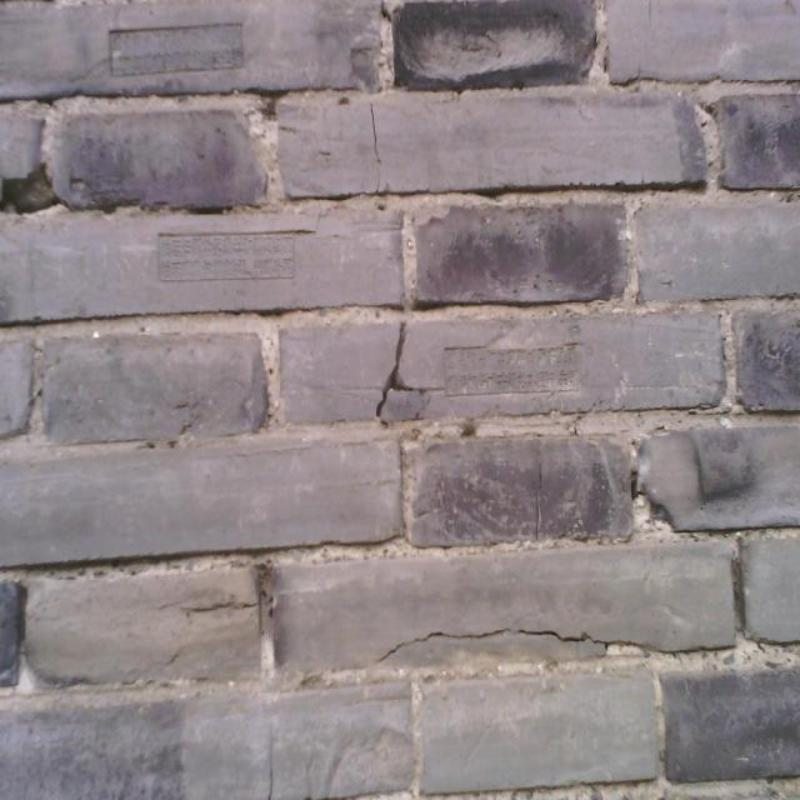pothole: (377, 323, 446, 416), (376, 626, 512, 664), (516, 628, 662, 652), (370, 103, 381, 194), (181, 601, 258, 612), (534, 447, 541, 489), (269, 726, 273, 799), (536, 491, 540, 541), (649, 0, 652, 27)
